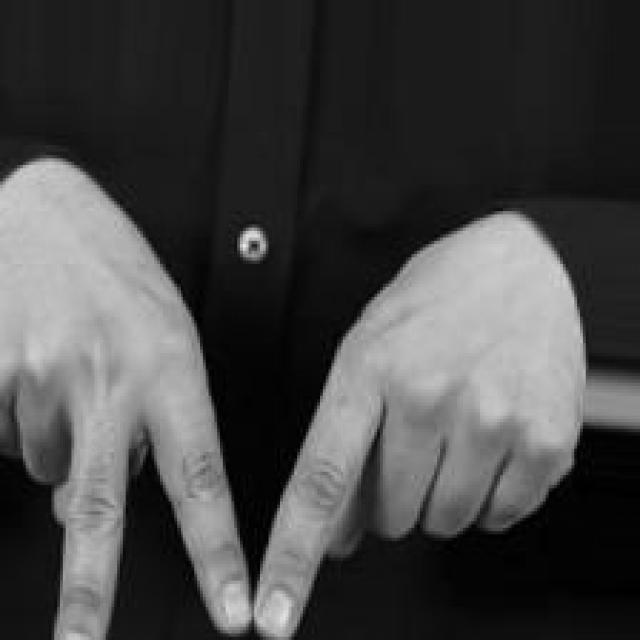N: (1, 157, 589, 640)
